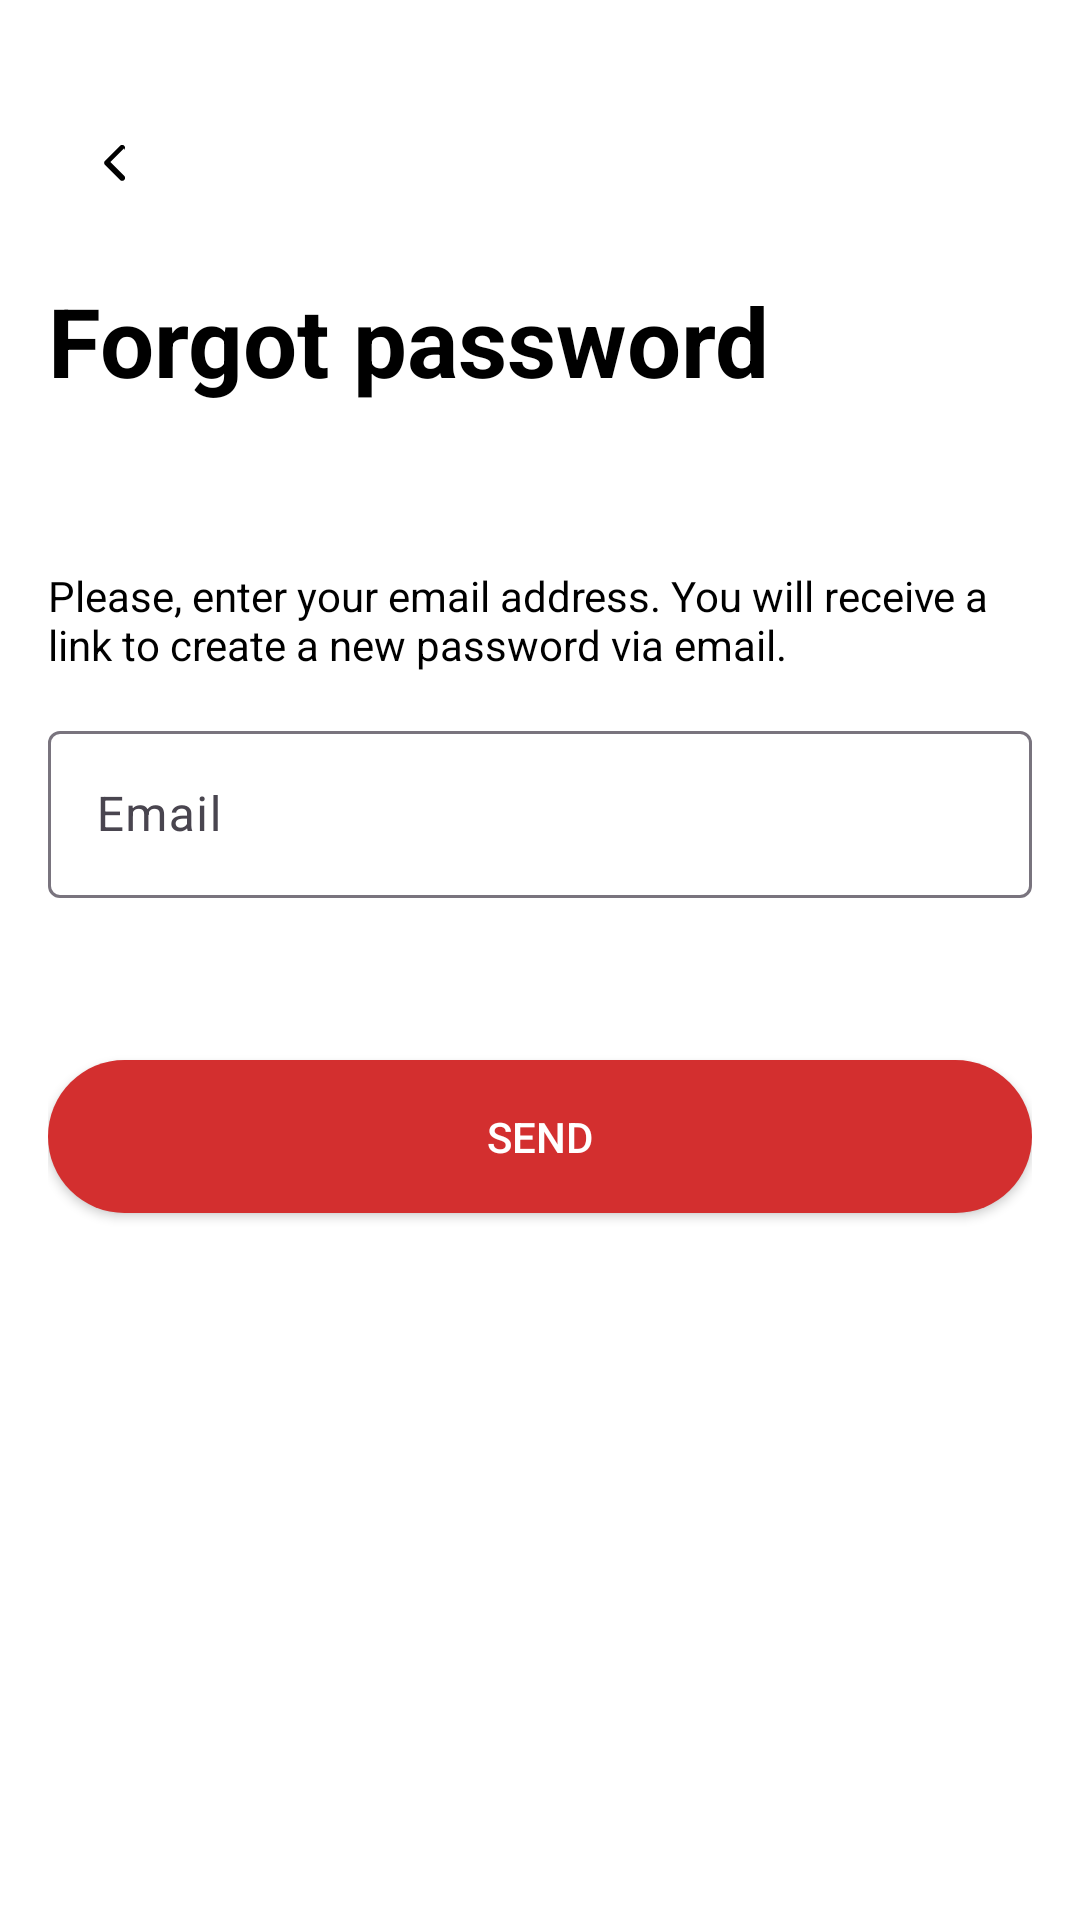

Point at icon controls on the screen. Image size 1080 x 1920, points as (x=x, y=y).
back arrow: (x=114, y=163)
